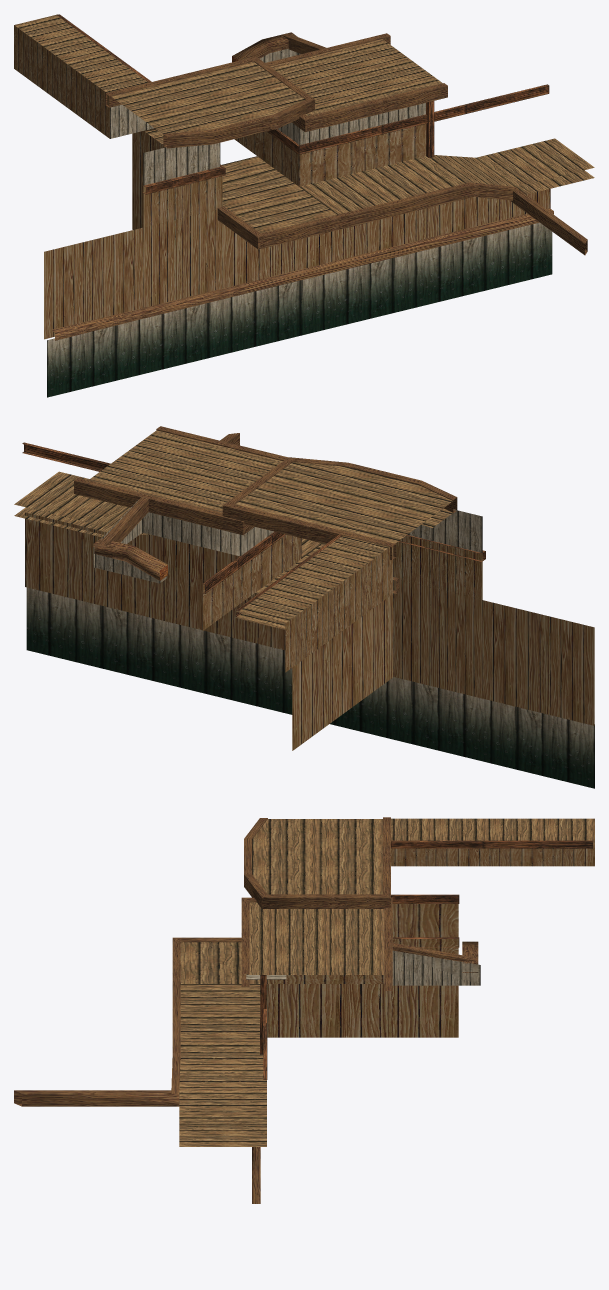
File: LAKETOWN_EXTERIOR_PS_LT_PIERPARTS0899__GX.fbx
3 views of the same model, one above another, from view 1: azimuth 30°, elevation 25°; view 2: azimuth 150°, elevation 25°; view 3: azimuth 270°, elevation 25° (orthographic). The views are drawn at different scales.
Parts seen in each view (by area): view 1: LAKETOWN_EXTERIOR_PS_LT_PIERPARTS0899__GX; view 2: LAKETOWN_EXTERIOR_PS_LT_PIERPARTS0899__GX; view 3: LAKETOWN_EXTERIOR_PS_LT_PIERPARTS0899__GX.
Part boxes in pixels (<box>): LAKETOWN_EXTERIOR_PS_LT_PIERPARTS0899__GX: <box>14,14,594,397</box>; LAKETOWN_EXTERIOR_PS_LT_PIERPARTS0899__GX: <box>14,426,594,788</box>; LAKETOWN_EXTERIOR_PS_LT_PIERPARTS0899__GX: <box>14,817,594,1203</box>.
Bounding box in the file's own units: 227405 × 97512 × 203481.
Materials: 8 (8 with a texture image).
